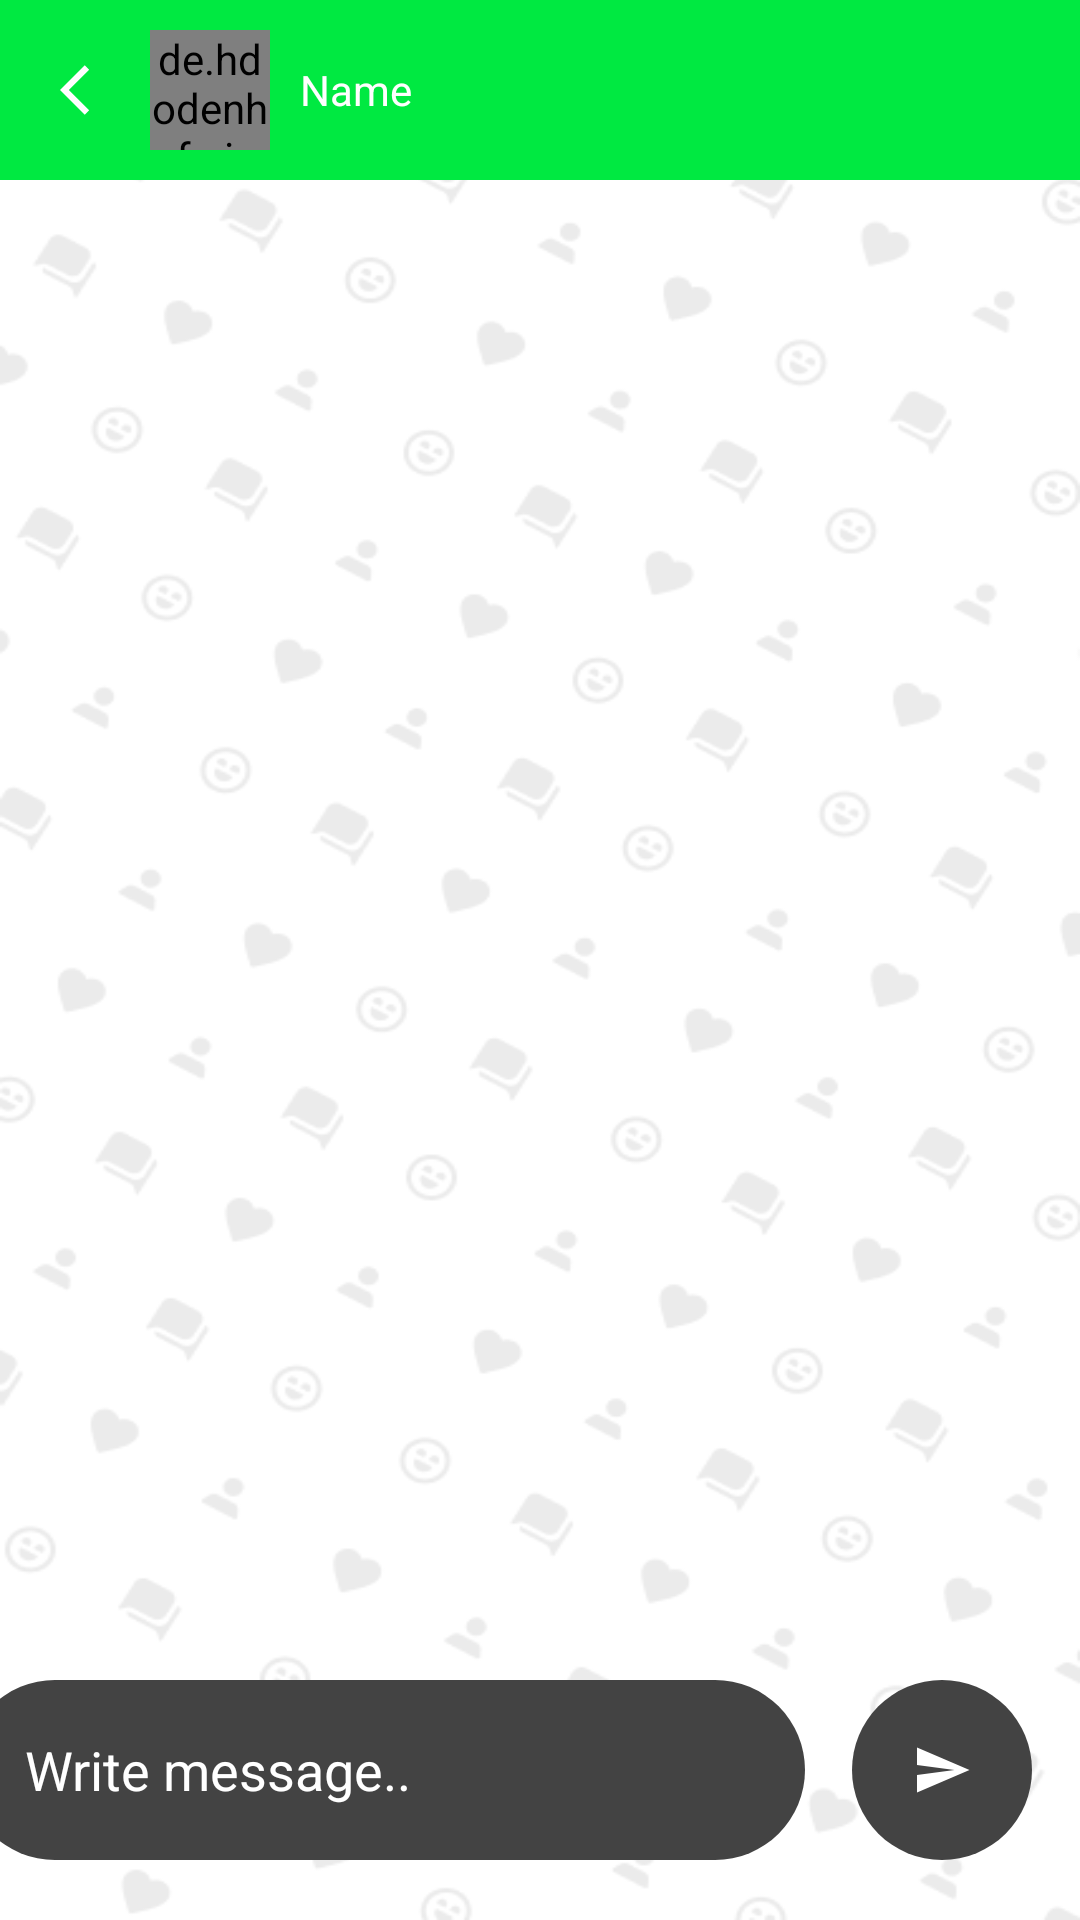

Where icons sit on this 1080w x 1920h app screen, as [x1=x1, y1=y1, x2=x2, y2=y2]:
send msg: [x1=852, y1=1680, x2=1032, y2=1860]
